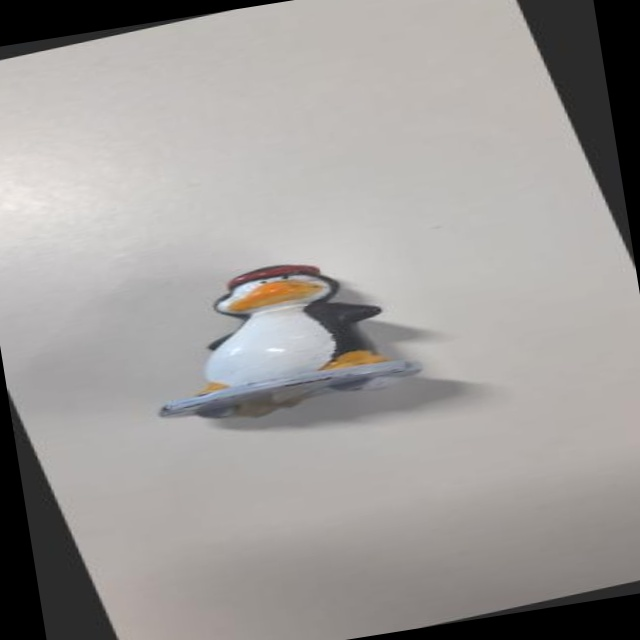Penguin: (117, 232, 434, 440)
